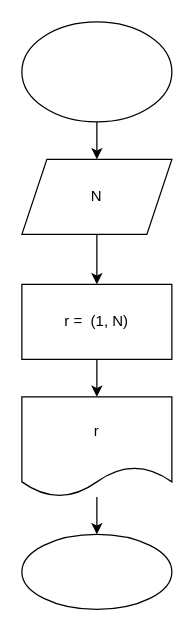
Image size: 194x631. Some labels were removed from this diagram. The shapes that lost their labels are listed below. From the top down, each one's centre as x and y in pixels, then its label:
At point (96, 71): "start".
At point (96, 571): "end".
